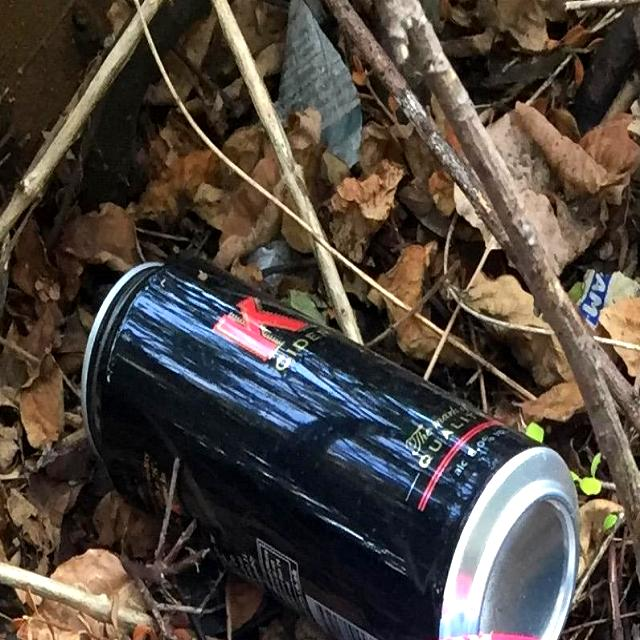Metal: (75, 247, 581, 640)
